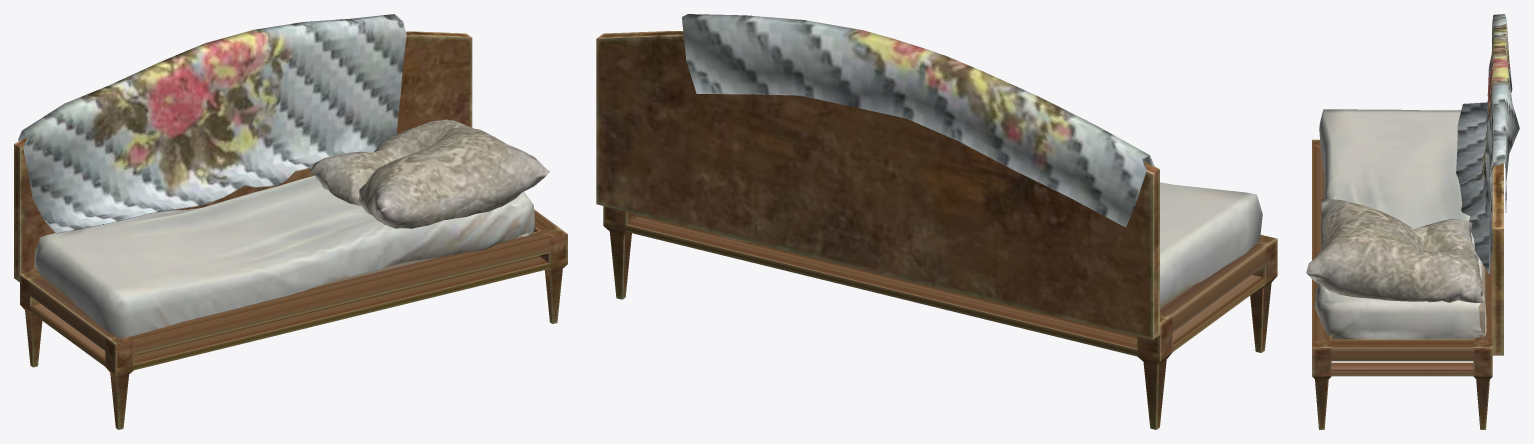
File: vintage_day_bed.glb
The picture shows the model from 3 angles, left to right: view 1: azimuth 30°, elevation 25°; view 2: azimuth 150°, elevation 25°; view 3: azimuth 270°, elevation 25°; orthographic projection. The views are drawn at different scales.
Parts seen in each view (by area): view 1: vintage_day_bed; view 2: vintage_day_bed; view 3: vintage_day_bed.
Part boxes in pixels (x1,y1,x2,y2): vintage_day_bed: [14, 14, 567, 429]; vintage_day_bed: [596, 14, 1277, 429]; vintage_day_bed: [1306, 14, 1519, 429].
Size of the model in its own units: 1.97 by 1.13 by 0.8547.
Materials: 1 (1 with a texture image).
